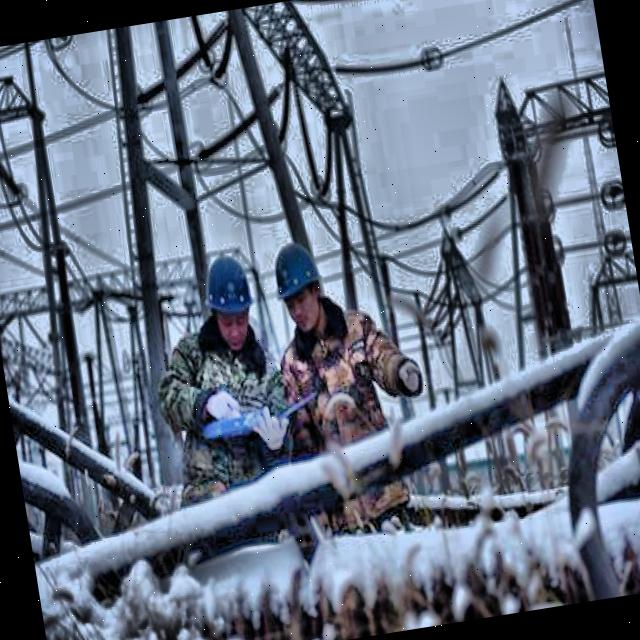helmet: (195, 246, 265, 359), (266, 231, 333, 337)
